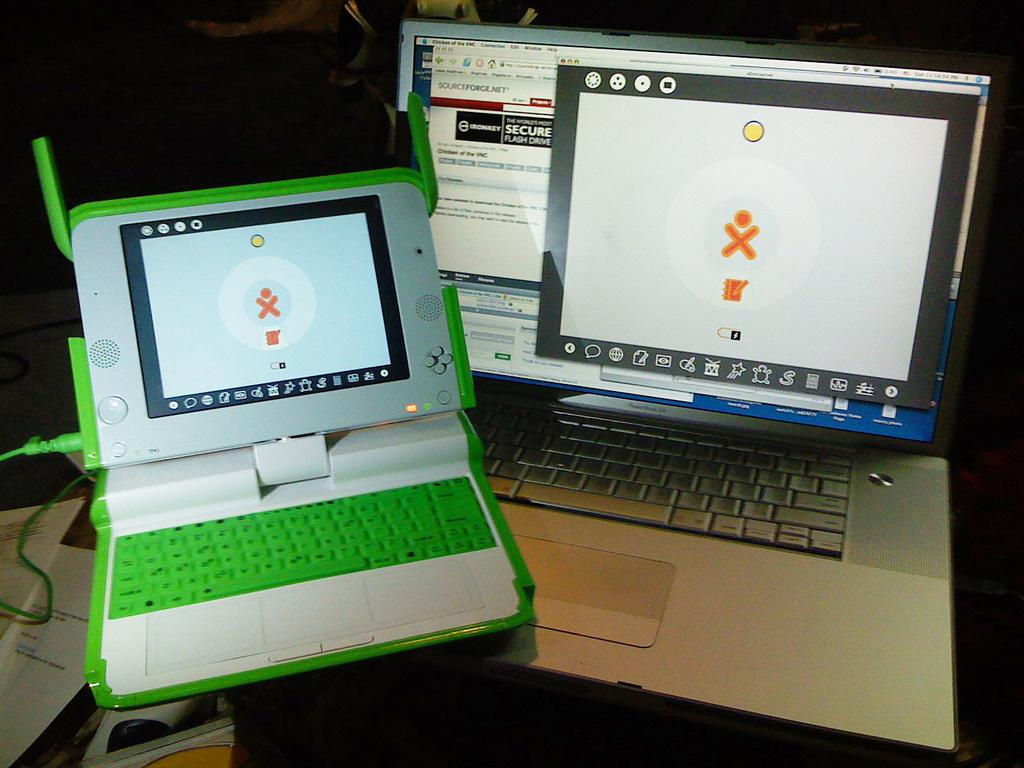Computer-keyboard: (474, 382, 850, 559), (108, 472, 499, 621)
Laptop: (423, 13, 980, 745), (33, 90, 535, 709)
